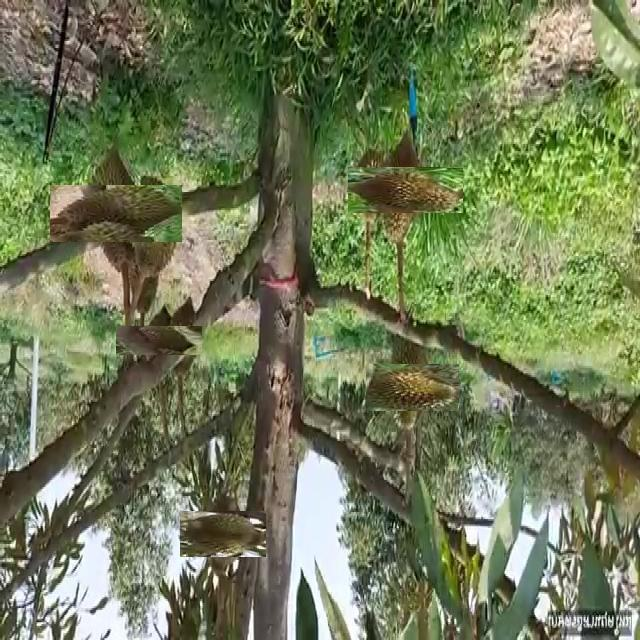durian: (69, 166, 164, 262), (364, 150, 446, 230), (123, 170, 181, 279), (377, 352, 448, 422), (189, 500, 256, 567), (130, 312, 188, 370), (349, 145, 389, 229), (168, 292, 202, 380)
